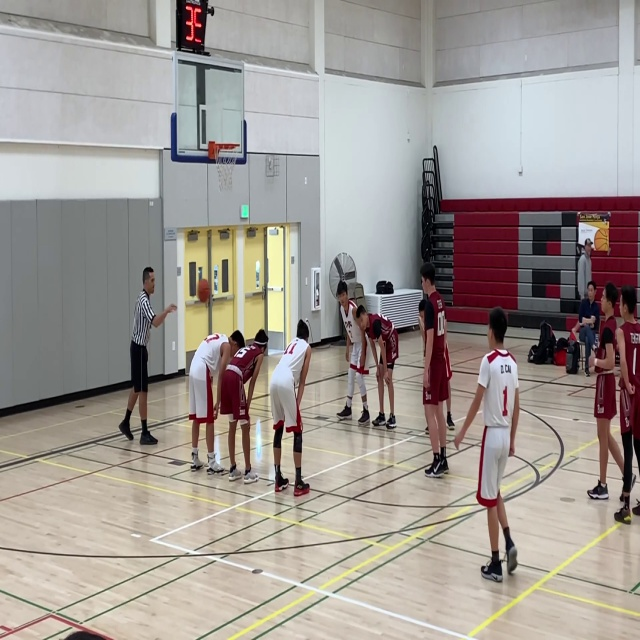Basketball: (197, 278, 210, 302)
